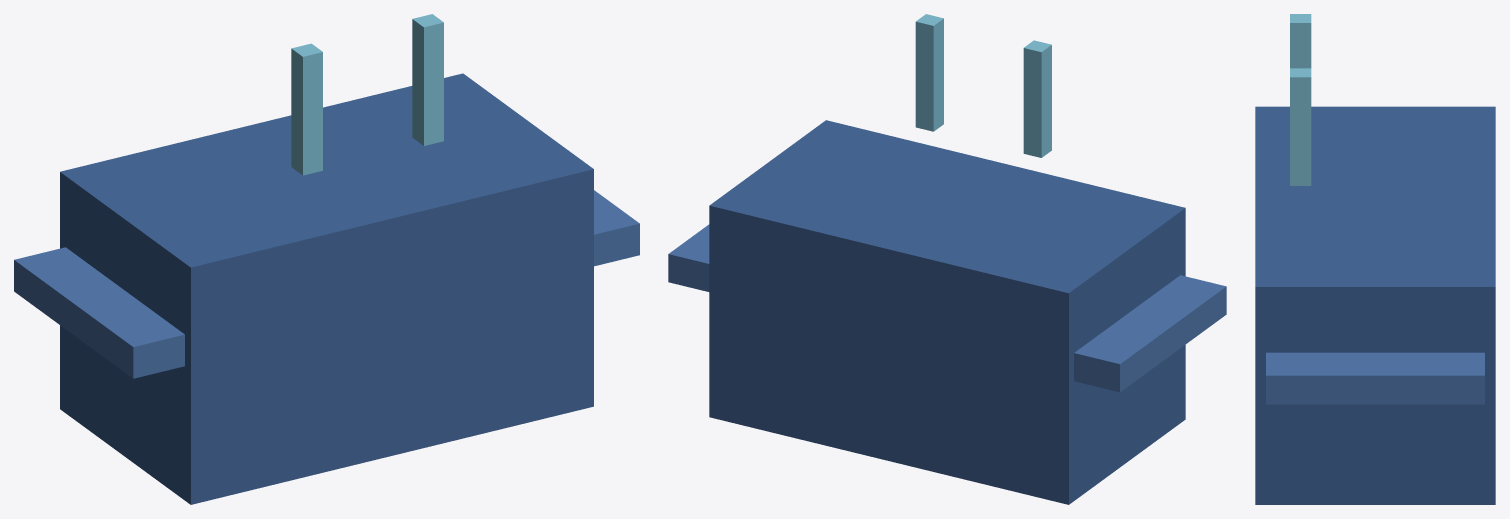
File: boss_leviathan_ancient.glb
The picture shows the model from 3 angles, left to right: view 1: azimuth 30°, elevation 25°; view 2: azimuth 150°, elevation 25°; view 3: azimuth 270°, elevation 25°; orthographic projection. The views are drawn at different scales.
Visible parts, largest first — view 1: geometry_0; view 2: geometry_0; view 3: geometry_0.
Part boxes in pixels (x1,y1,x2,y2): geometry_0: (14, 14, 639, 504); geometry_0: (668, 14, 1226, 504); geometry_0: (1255, 14, 1495, 504).
Bounding box in the file's own units: 2.01 × 1.53 × 0.9.
